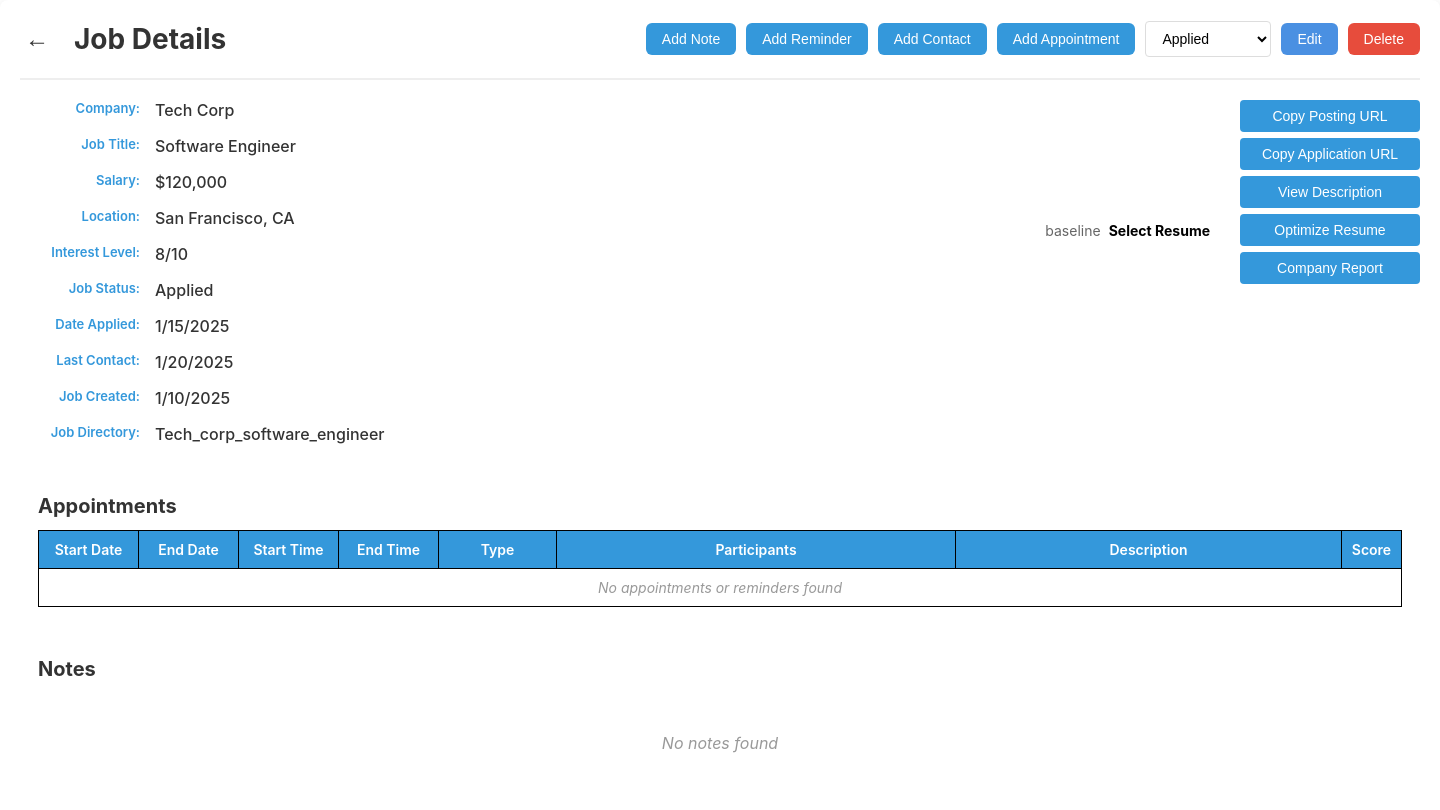
Test case: JobDetails Component › Description Modal › shows "No job description provided" when missing
Click the button "View Description" at [1330, 192], box [1240, 176, 1420, 208]
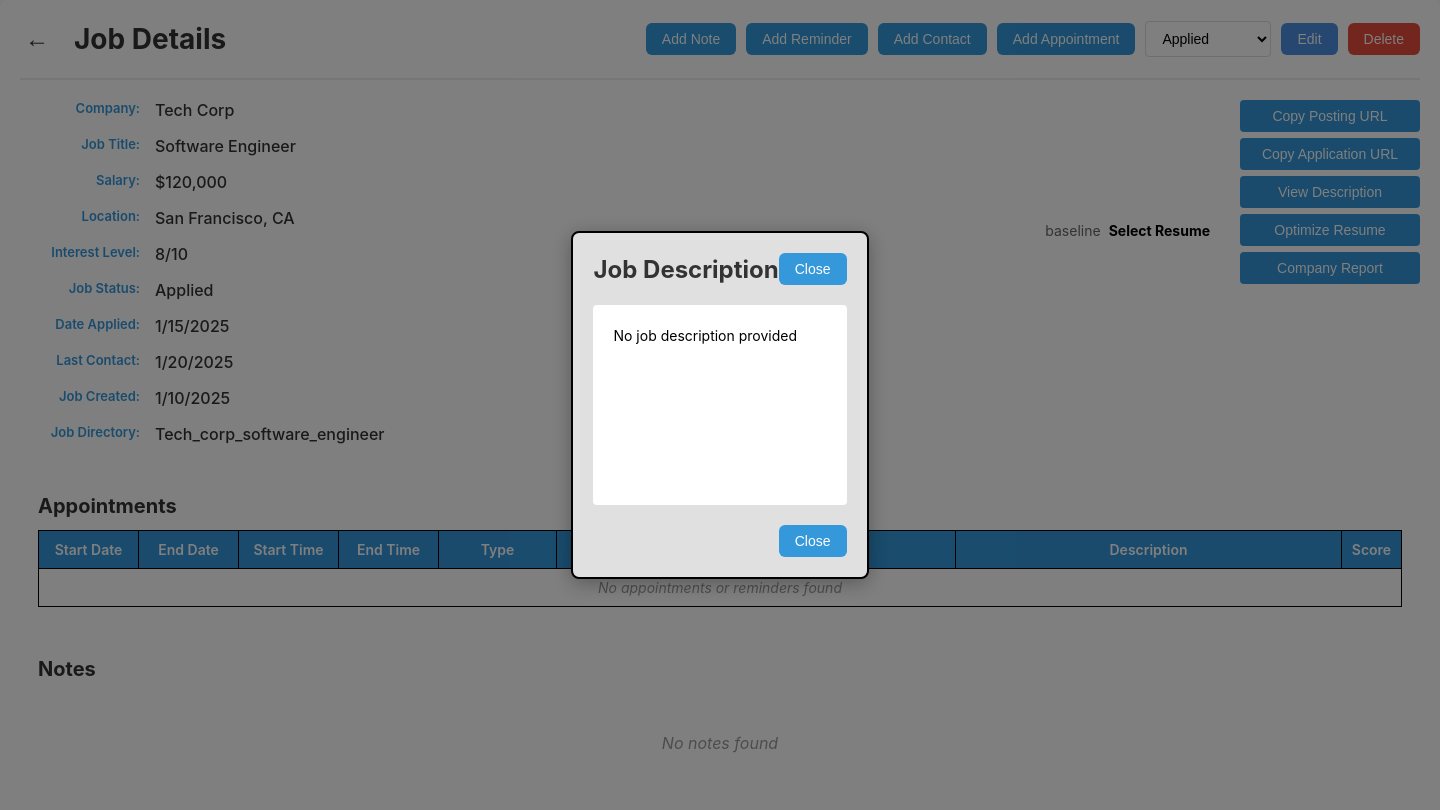
Result: the text "No job description provided" is shown at [594, 305, 846, 505]
